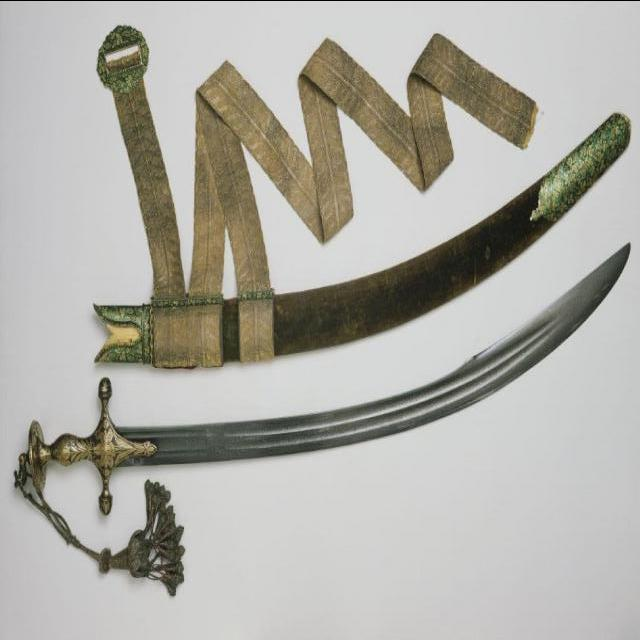cutlass: (13, 235, 640, 568)
scabbard: (84, 104, 639, 368)
